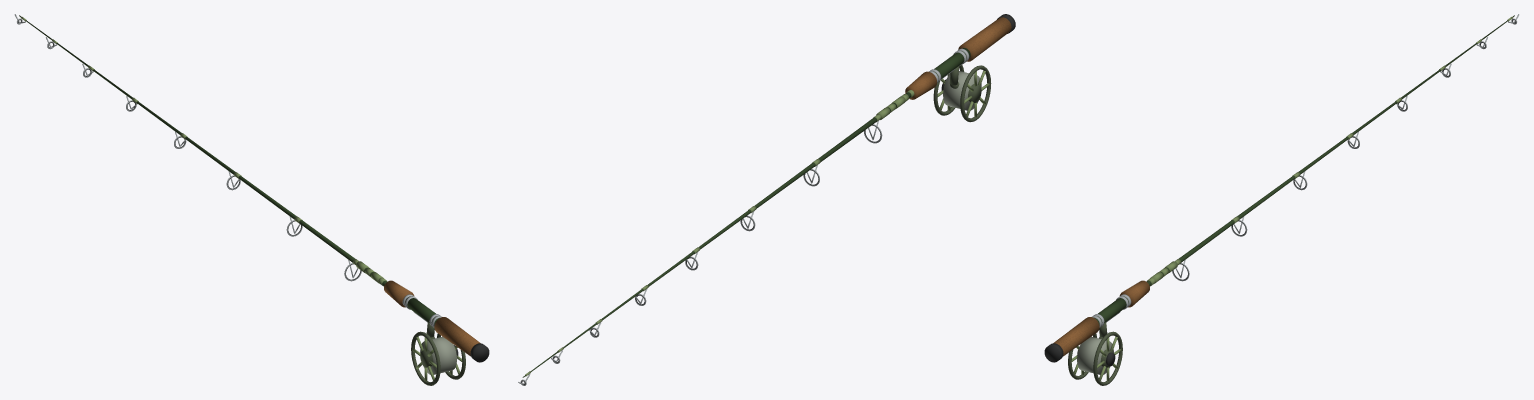
The model's file is willow_fly.glb.
3 views of the same model, side by side, from view 1: azimuth 30°, elevation 25°; view 2: azimuth 150°, elevation 25°; view 3: azimuth 330°, elevation 25° (orthographic). The views are drawn at different scales.
Visible parts, largest first — view 1: Tapered carbon blank.004; view 2: Tapered carbon blank.004; view 3: Tapered carbon blank.004.
Part boxes in pixels (box(x1,y1,x2,y2)): Tapered carbon blank.004: box(14, 14, 489, 385); Tapered carbon blank.004: box(518, 14, 1015, 385); Tapered carbon blank.004: box(1044, 14, 1519, 385).
Size of the model in its own units: 0.073 by 0.1505 by 1.91.
8 materials, 1 textured.
